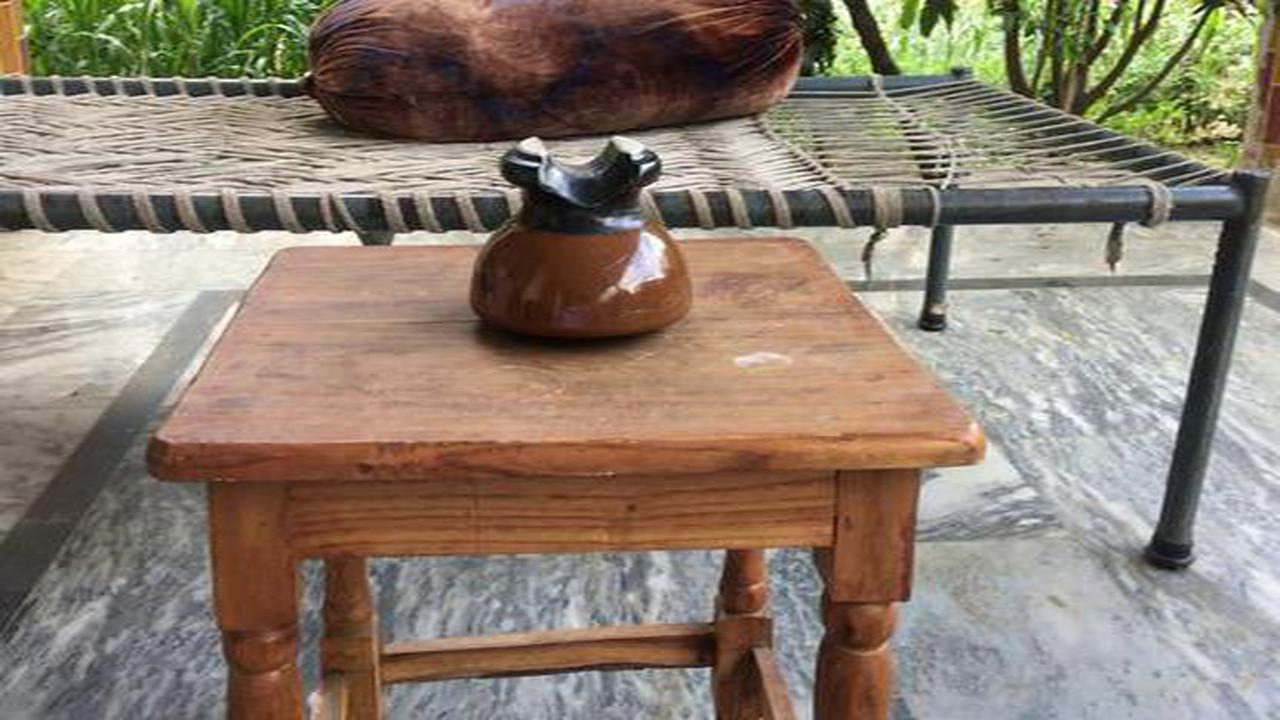insulator_pin: (453, 123, 714, 357)
